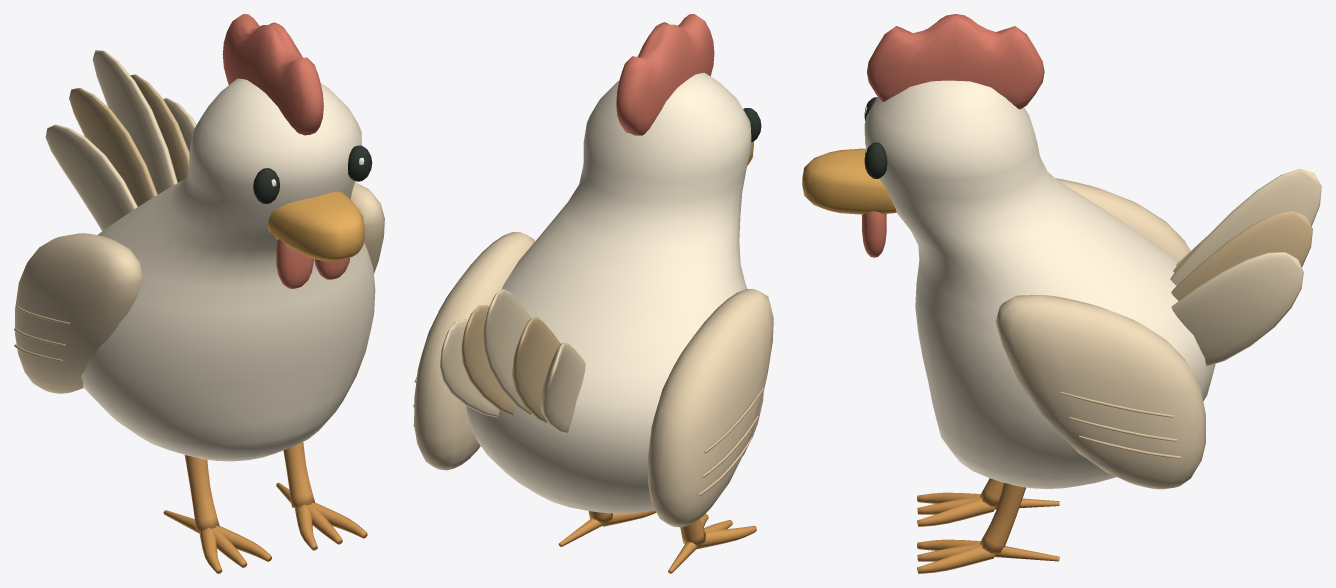
Rendered from chicken.glb.
3 renders of one model, left to right at view 1: azimuth 30°, elevation 25°; view 2: azimuth 150°, elevation 25°; view 3: azimuth 270°, elevation 25°, orthographic. The views are drawn at different scales.
Parts seen in each view (by area): view 1: continuous-body-neck, sculpted-wing--1, scalloped-comb, upper-beak, tail-feather-0, tail-feather-2, tail-feather-1, tail-feather-3, ankle--1, sculpted-wing-1, ankle-1, wattle--1 (+10 smaller); view 2: continuous-body-neck, sculpted-wing--1, sculpted-wing-1, scalloped-comb, tail-feather-2, tail-feather-1, tail-feather-0, tail-feather-3, tail-feather-4, foot-toe--1--1, ankle--1; view 3: continuous-body-neck, sculpted-wing-1, scalloped-comb, tail-feather-4, tail-feather-2, upper-beak, tail-feather-3, sculpted-wing--1, ankle-1, wattle-1, foot-toe-1-1, foot-toe--1-1 (+1 smaller).
Boxes of the visible parts, <box> form: continuous-body-neck: <box>81,78,375,461</box>; sculpted-wing--1: <box>15,233,142,393</box>; scalloped-comb: <box>222,14,323,135</box>; upper-beak: <box>268,191,364,260</box>; tail-feather-0: <box>45,124,137,231</box>; tail-feather-2: <box>92,50,177,194</box>; tail-feather-1: <box>69,87,157,206</box>; tail-feather-3: <box>130,74,189,182</box>; ankle--1: <box>184,455,219,530</box>; sculpted-wing-1: <box>350,182,384,273</box>; ankle-1: <box>283,442,314,507</box>; wattle--1: <box>276,239,313,288</box>; continuous-body-neck: <box>466,72,763,513</box>; sculpted-wing--1: <box>648,289,773,527</box>; sculpted-wing-1: <box>414,232,534,470</box>; scalloped-comb: <box>616,14,714,135</box>; tail-feather-2: <box>483,289,531,415</box>; tail-feather-1: <box>512,317,560,423</box>; tail-feather-0: <box>541,342,585,433</box>; tail-feather-3: <box>461,305,515,415</box>; tail-feather-4: <box>440,319,499,417</box>; foot-toe--1--1: <box>696,525,756,549</box>; ankle--1: <box>680,519,705,546</box>; continuous-body-neck: <box>864,80,1215,488</box>; sculpted-wing-1: <box>995,295,1205,489</box>; scalloped-comb: <box>867,14,1044,109</box>; tail-feather-4: <box>1171,252,1303,366</box>; tail-feather-2: <box>1170,169,1321,285</box>; upper-beak: <box>802,148,896,214</box>; tail-feather-3: <box>1171,210,1312,300</box>; sculpted-wing--1: <box>1055,178,1190,262</box>; ankle-1: <box>979,483,1025,554</box>; wattle-1: <box>862,211,886,257</box>; foot-toe-1-1: <box>917,545,995,573</box>; foot-toe--1-1: <box>917,498,995,526</box>.
Size of the model in its own units: 0.5896 by 0.9347 by 0.8432.
